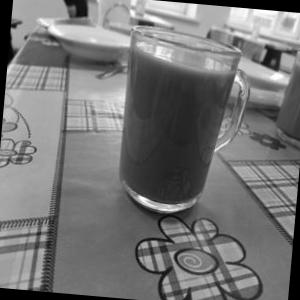coffee: (102, 7, 248, 233)
